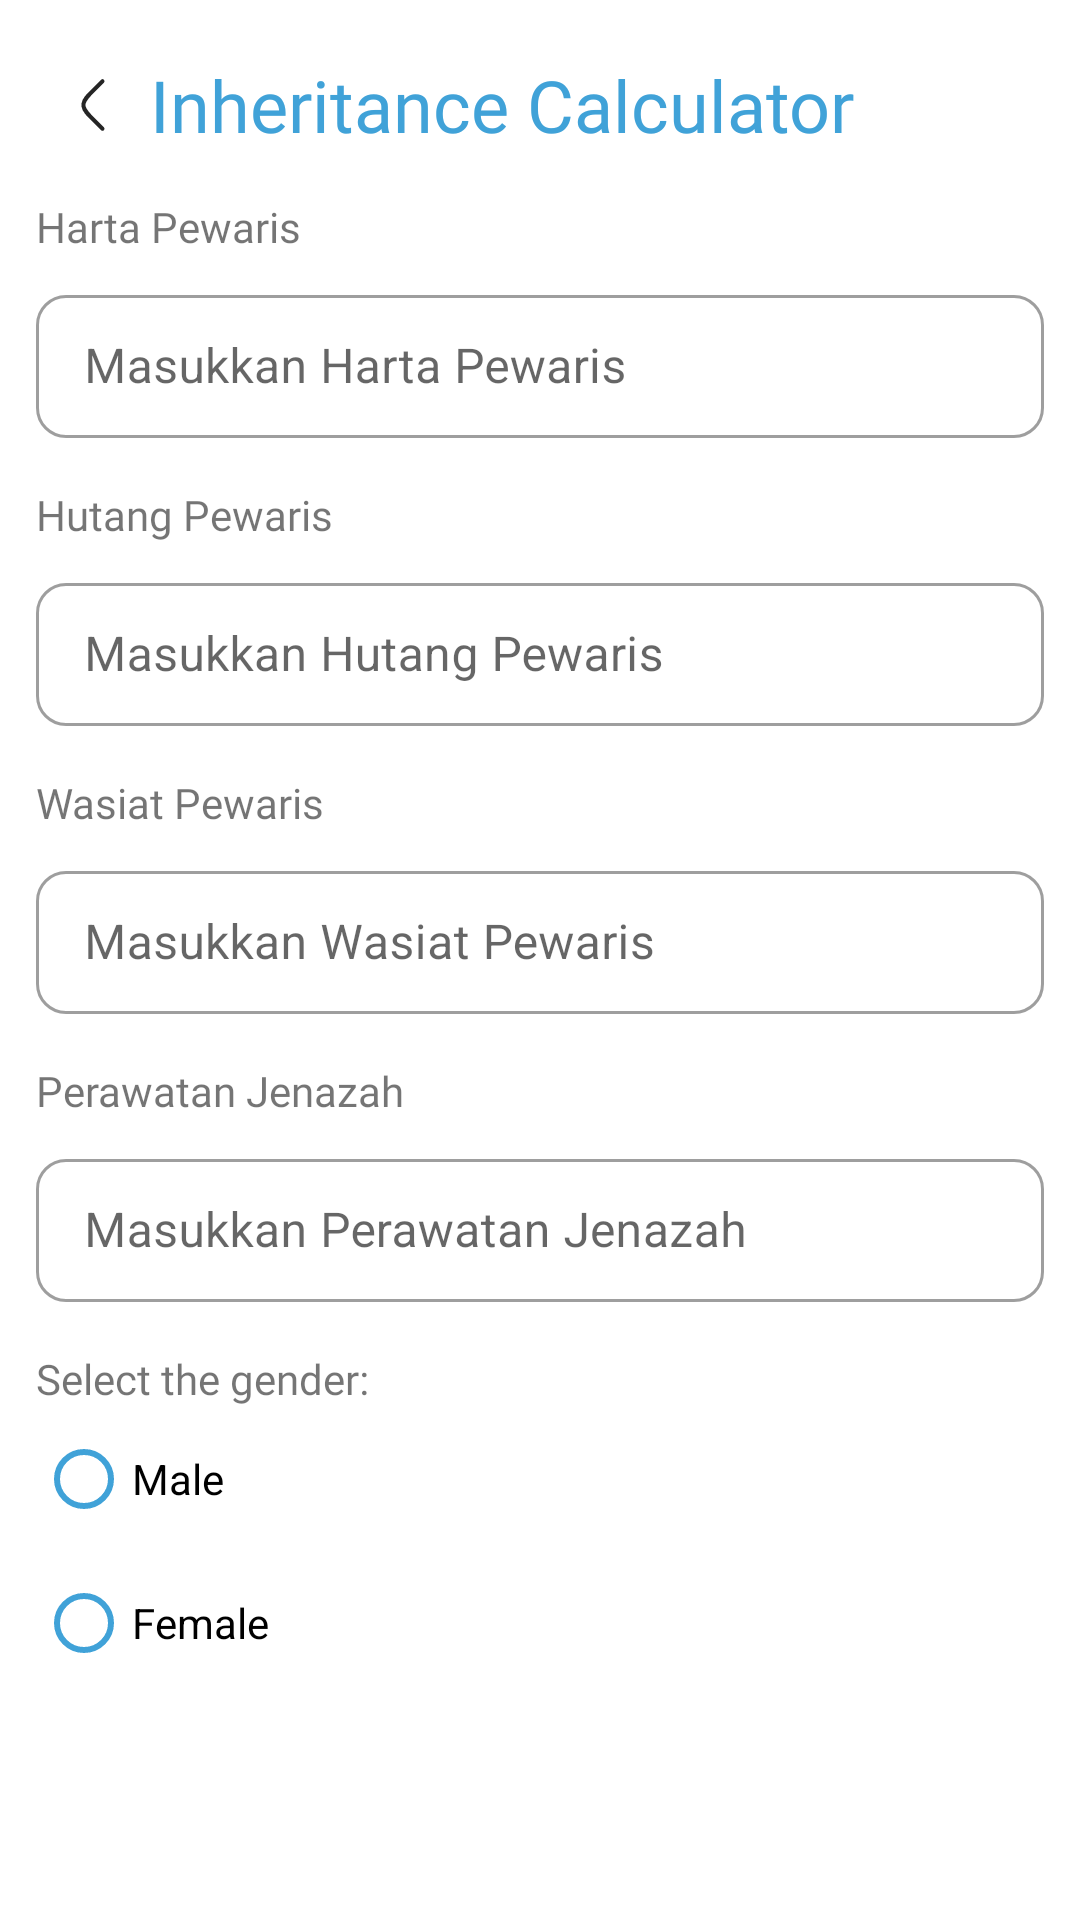

Named icons in this screenshot (1080x1920) and their bounding boxes, (x1, y1, x2, y2):
left: (81, 79, 105, 131)
